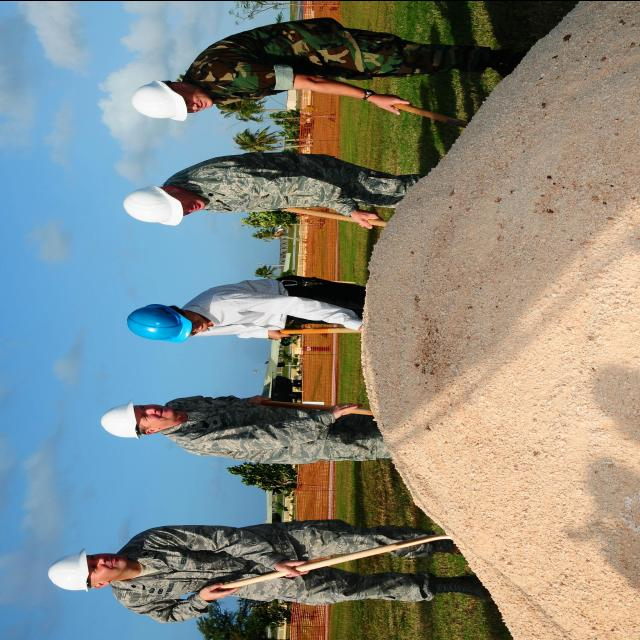helmet: (128, 72, 190, 128), (127, 298, 199, 346), (42, 542, 92, 600), (124, 180, 184, 226), (99, 398, 144, 442)
